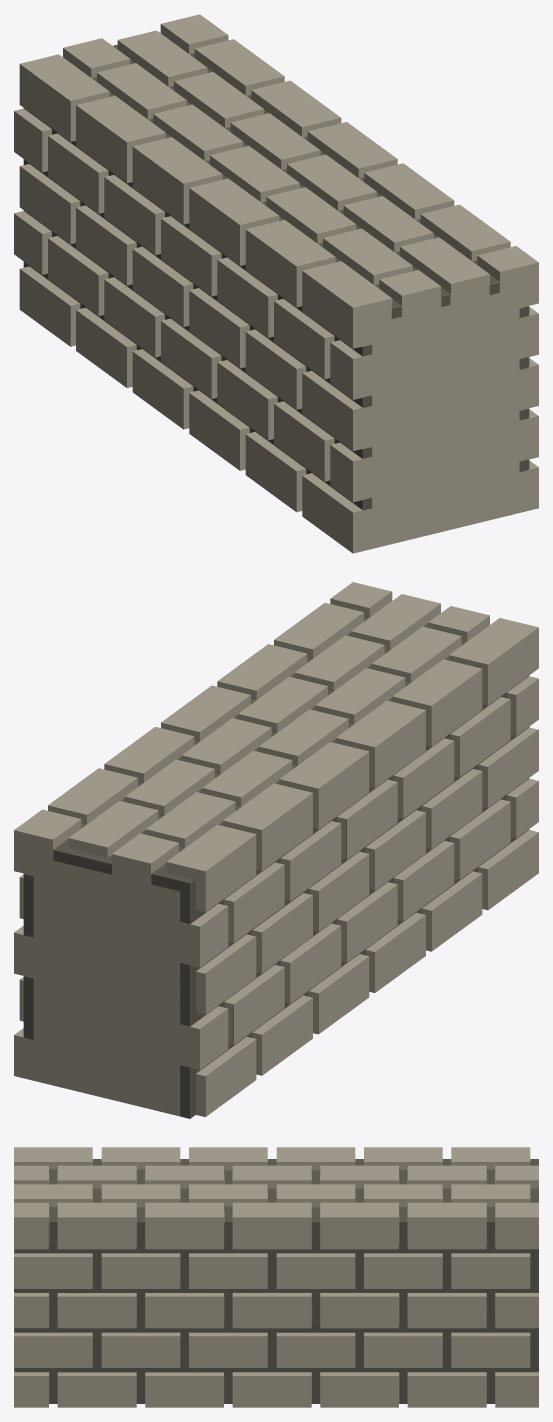
Rendered from Wall_1.fbx.
The picture shows the model from 3 angles, top to bottom: view 1: azimuth 30°, elevation 25°; view 2: azimuth 150°, elevation 25°; view 3: azimuth 270°, elevation 25°; orthographic projection. The views are drawn at different scales.
Parts seen in each view (by area): view 1: Walls-3Cleaned; view 2: Walls-3Cleaned; view 3: Walls-3Cleaned.
Boxes of the visible parts, x1,y1,x2,y2 form: Walls-3Cleaned: (14, 14, 538, 553); Walls-3Cleaned: (14, 582, 538, 1118); Walls-3Cleaned: (14, 1147, 538, 1407).
Size of the model in its own units: 190 by 240 by 600.
